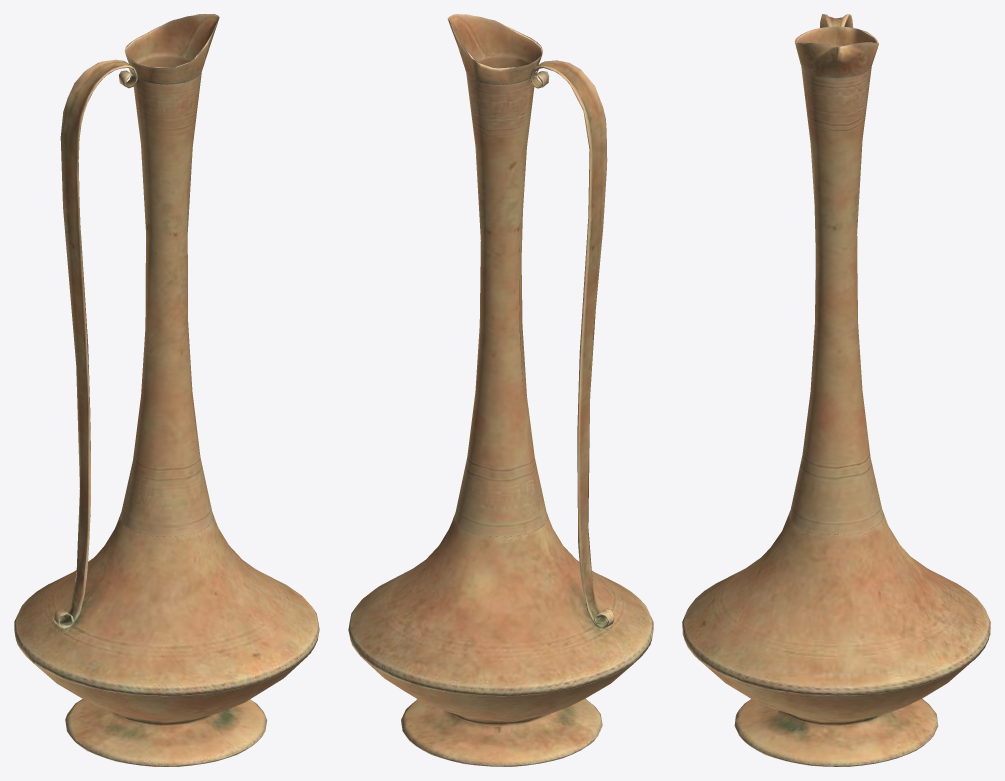
The model's file is ph_brass_vase_02.glb.
3 views of the same model, side by side, from view 1: azimuth 30°, elevation 25°; view 2: azimuth 150°, elevation 25°; view 3: azimuth 270°, elevation 25° (orthographic).
Visible parts, largest first — view 1: brass_vase_02; view 2: brass_vase_02; view 3: brass_vase_02.
Part boxes in pixels (bbox=[...]): brass_vase_02: bbox=[14, 14, 319, 766]; brass_vase_02: bbox=[348, 14, 653, 766]; brass_vase_02: bbox=[682, 14, 990, 766].
Size of the model in its own units: 0.2101 by 0.5289 by 0.2102.
1 material, 1 textured.
